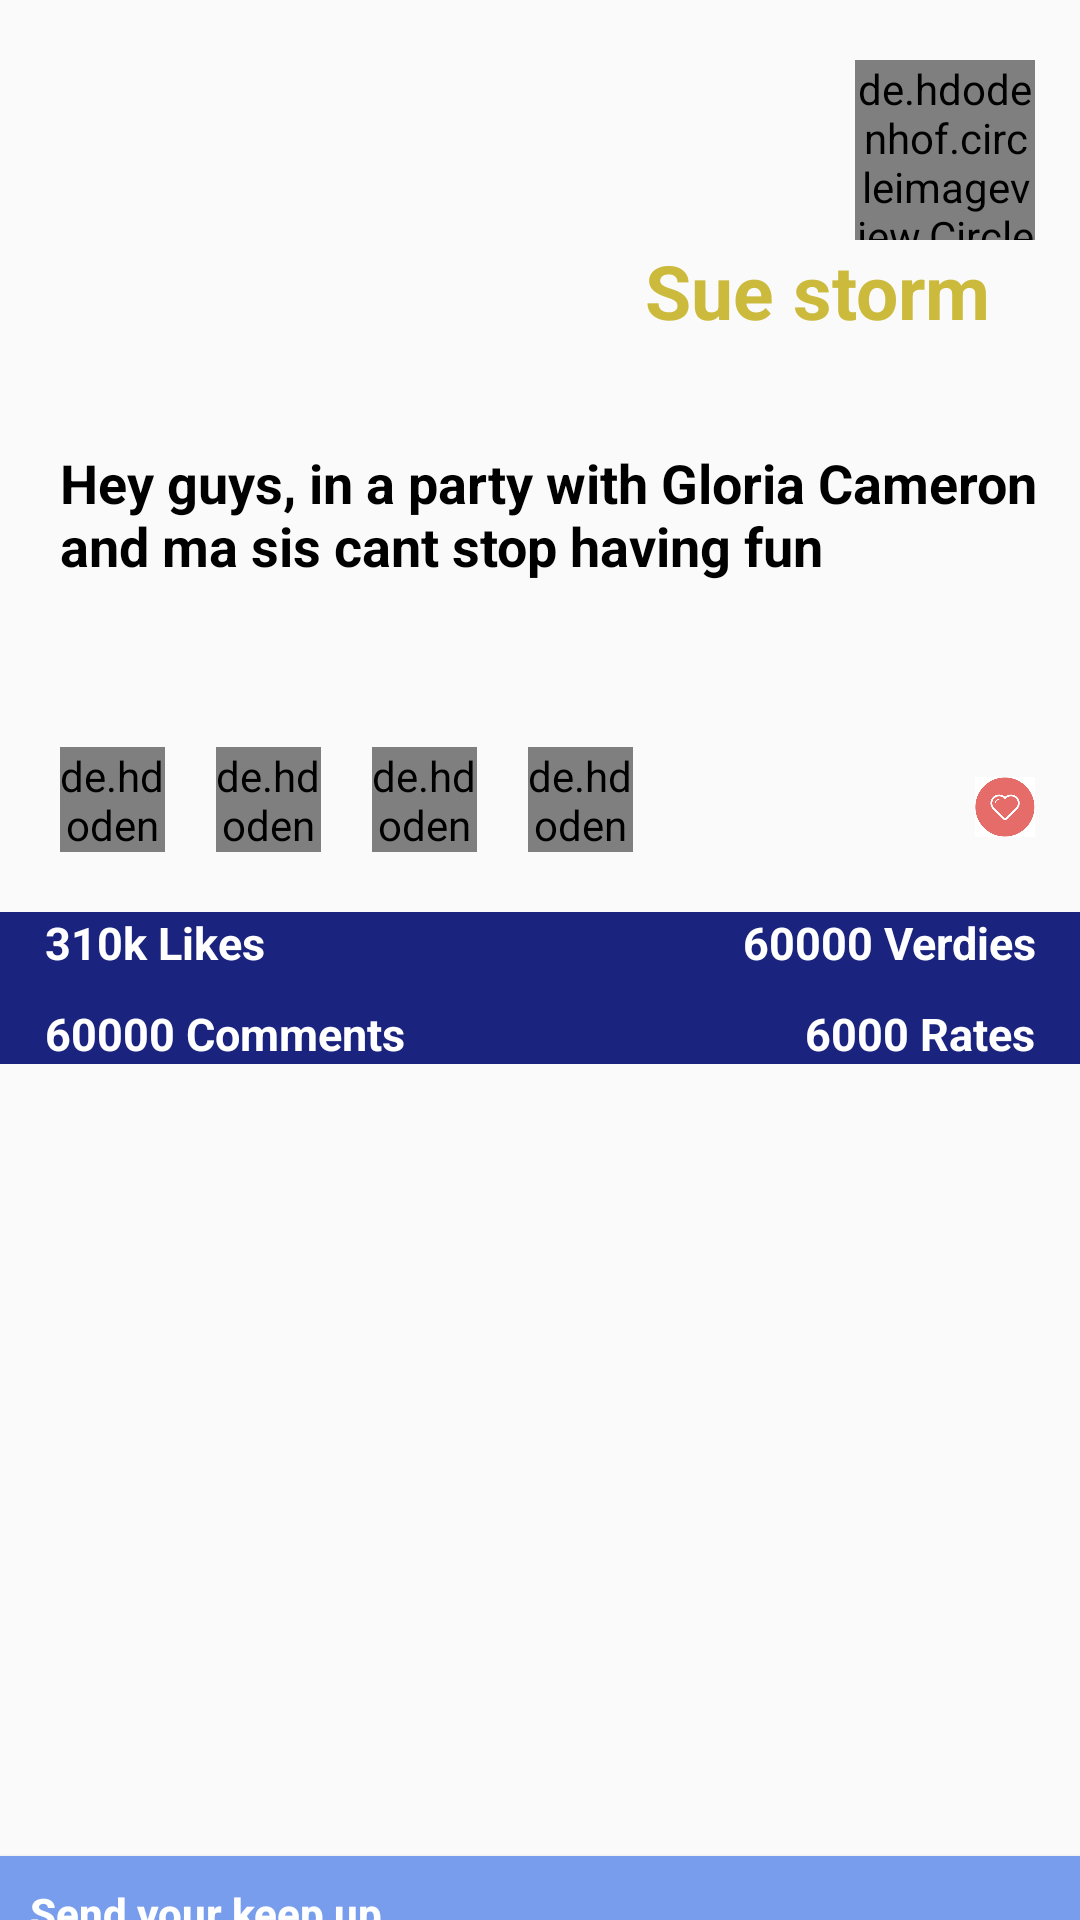

Icon bounding boxes for this 1080x1920 phone screenshot, format [x1=x1, y1=y1, x2=x2, y2=y2]:
likee: [x1=975, y1=777, x2=1035, y2=837]
